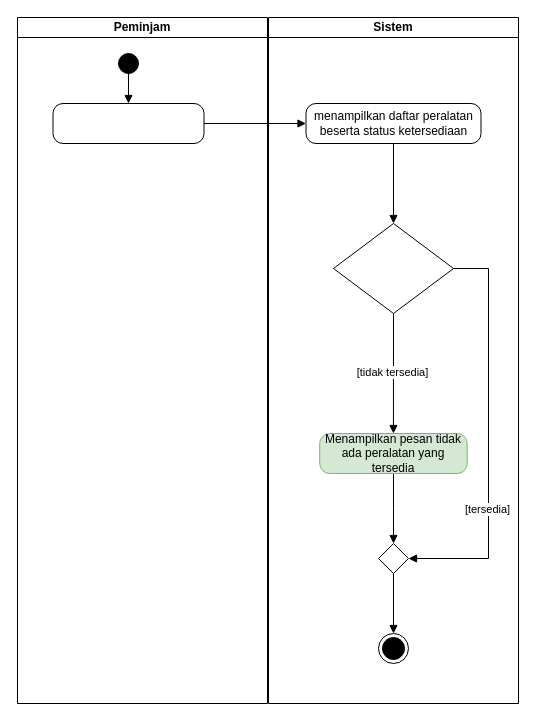
Some shapes in this 536 by 721 pixel diagram are drawn without their labels. Here are the shapes that lost their labels. From the top down, the centre of each, then its label:
the point at 128,123: Melihat fungsi lihat ketersediaan peralayan
the point at 393,268: Peralatan tersedia?
